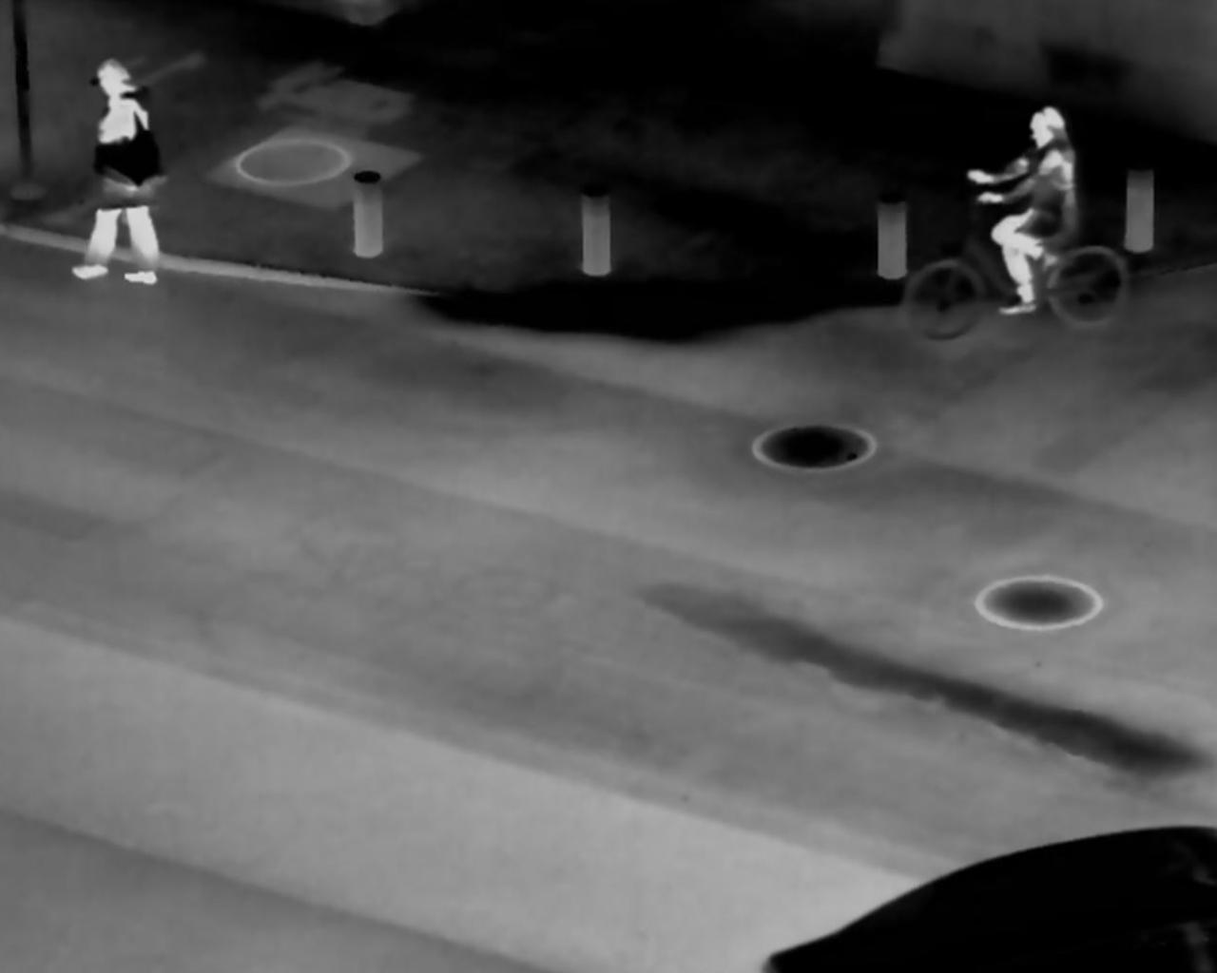person: (954, 81, 1100, 334), (70, 49, 164, 293)
